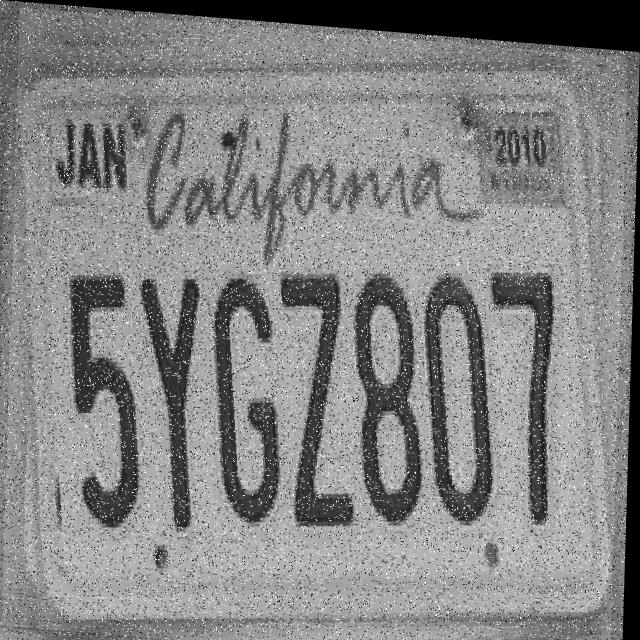LicensePlate: (5, 8, 628, 640)
